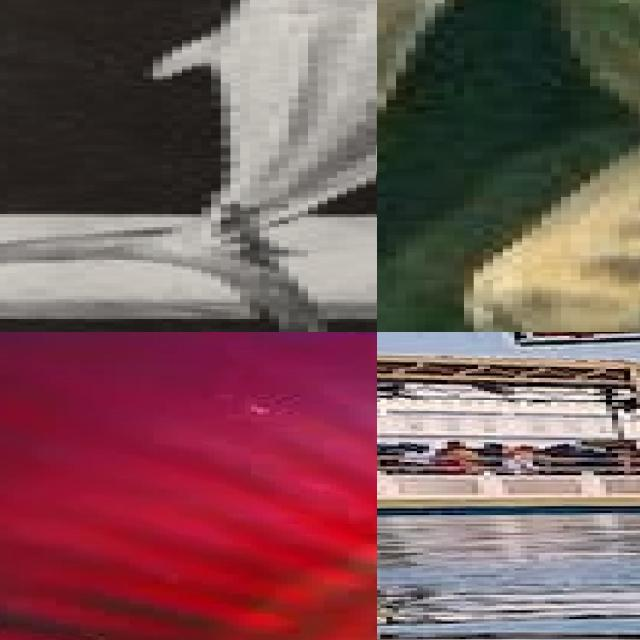fish: (0, 0, 377, 332), (0, 332, 377, 640), (377, 55, 640, 332)
